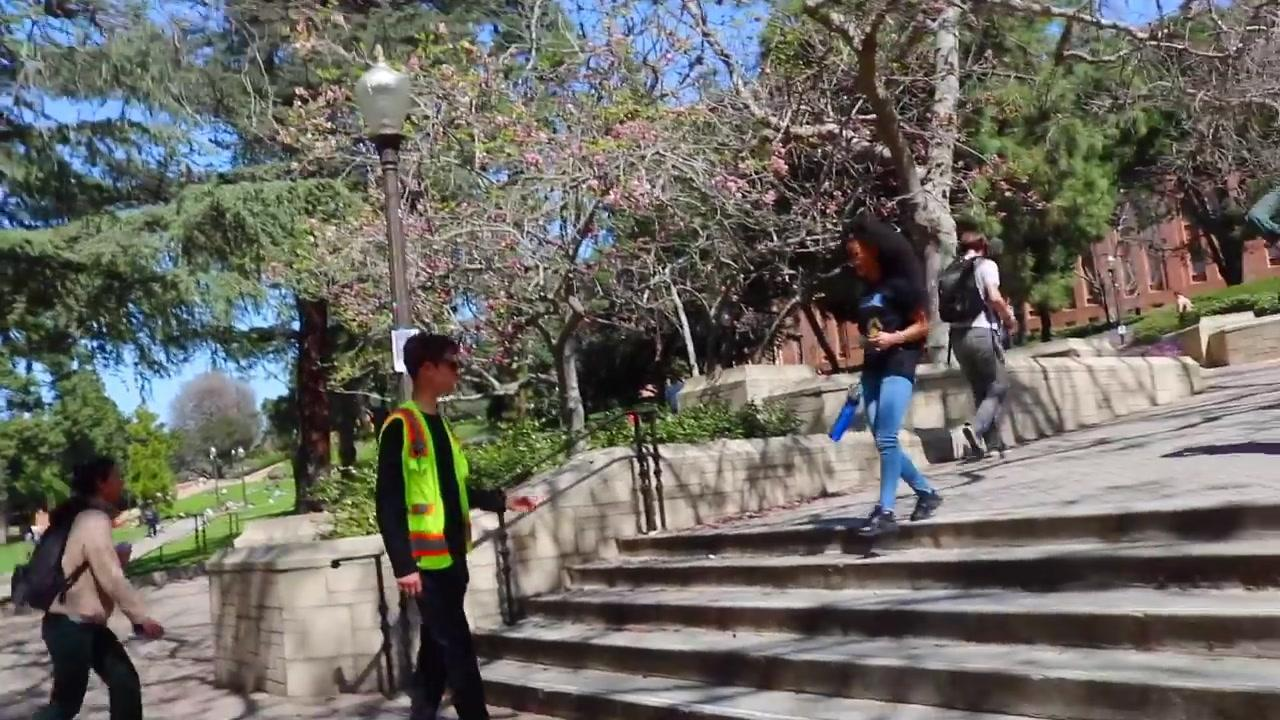vest: (370, 402, 478, 572)
